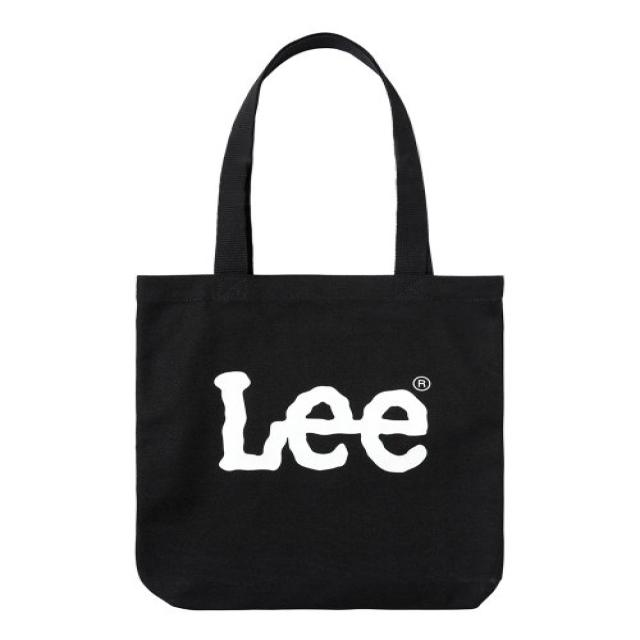ecobag: (101, 38, 546, 615)
